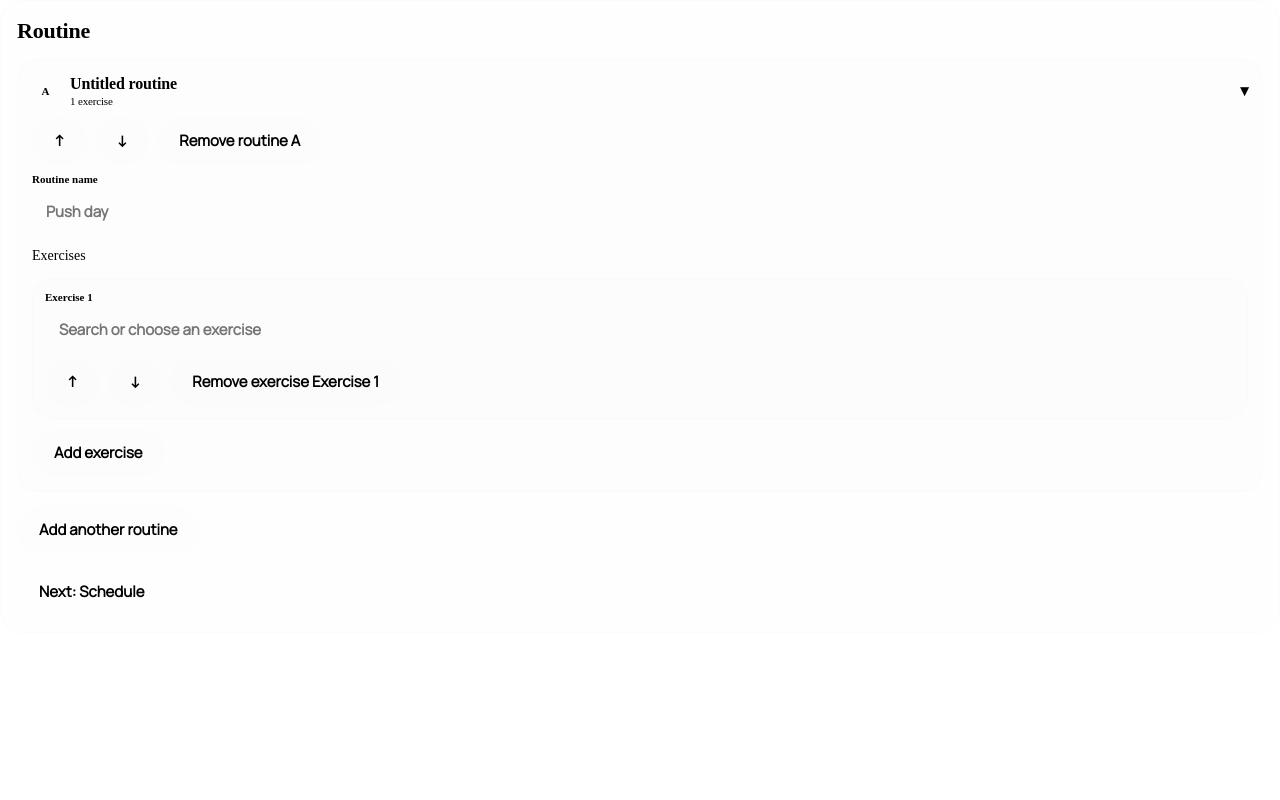
Scenario: ManualRoutineEditor validation › shows inline plain-language errors only after trying to continue, with no codes or paths
Expected: the text "Give this routine a name." is not shown
Click the button "Next: Schedule" at (92, 592), box x1=17 y1=568 x2=166 y2=616
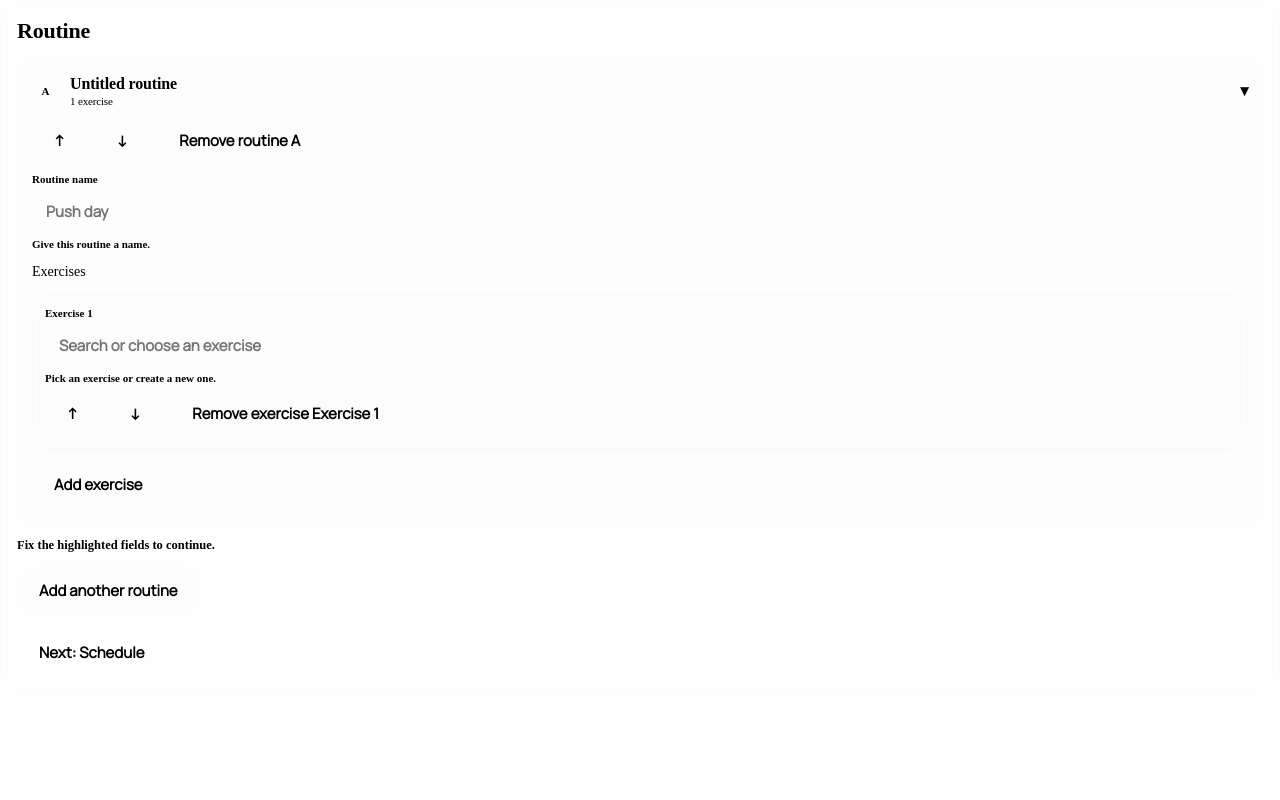
Expected: the text "Give this routine a name." is shown, x1=32 y1=238 x2=150 y2=250
Expected: the text "Pick an exercise or create a new one." is shown, x1=45 y1=372 x2=216 y2=384
Expected: the message "Fix the highlighted fields to continue." is shown, x1=17 y1=538 x2=215 y2=552
